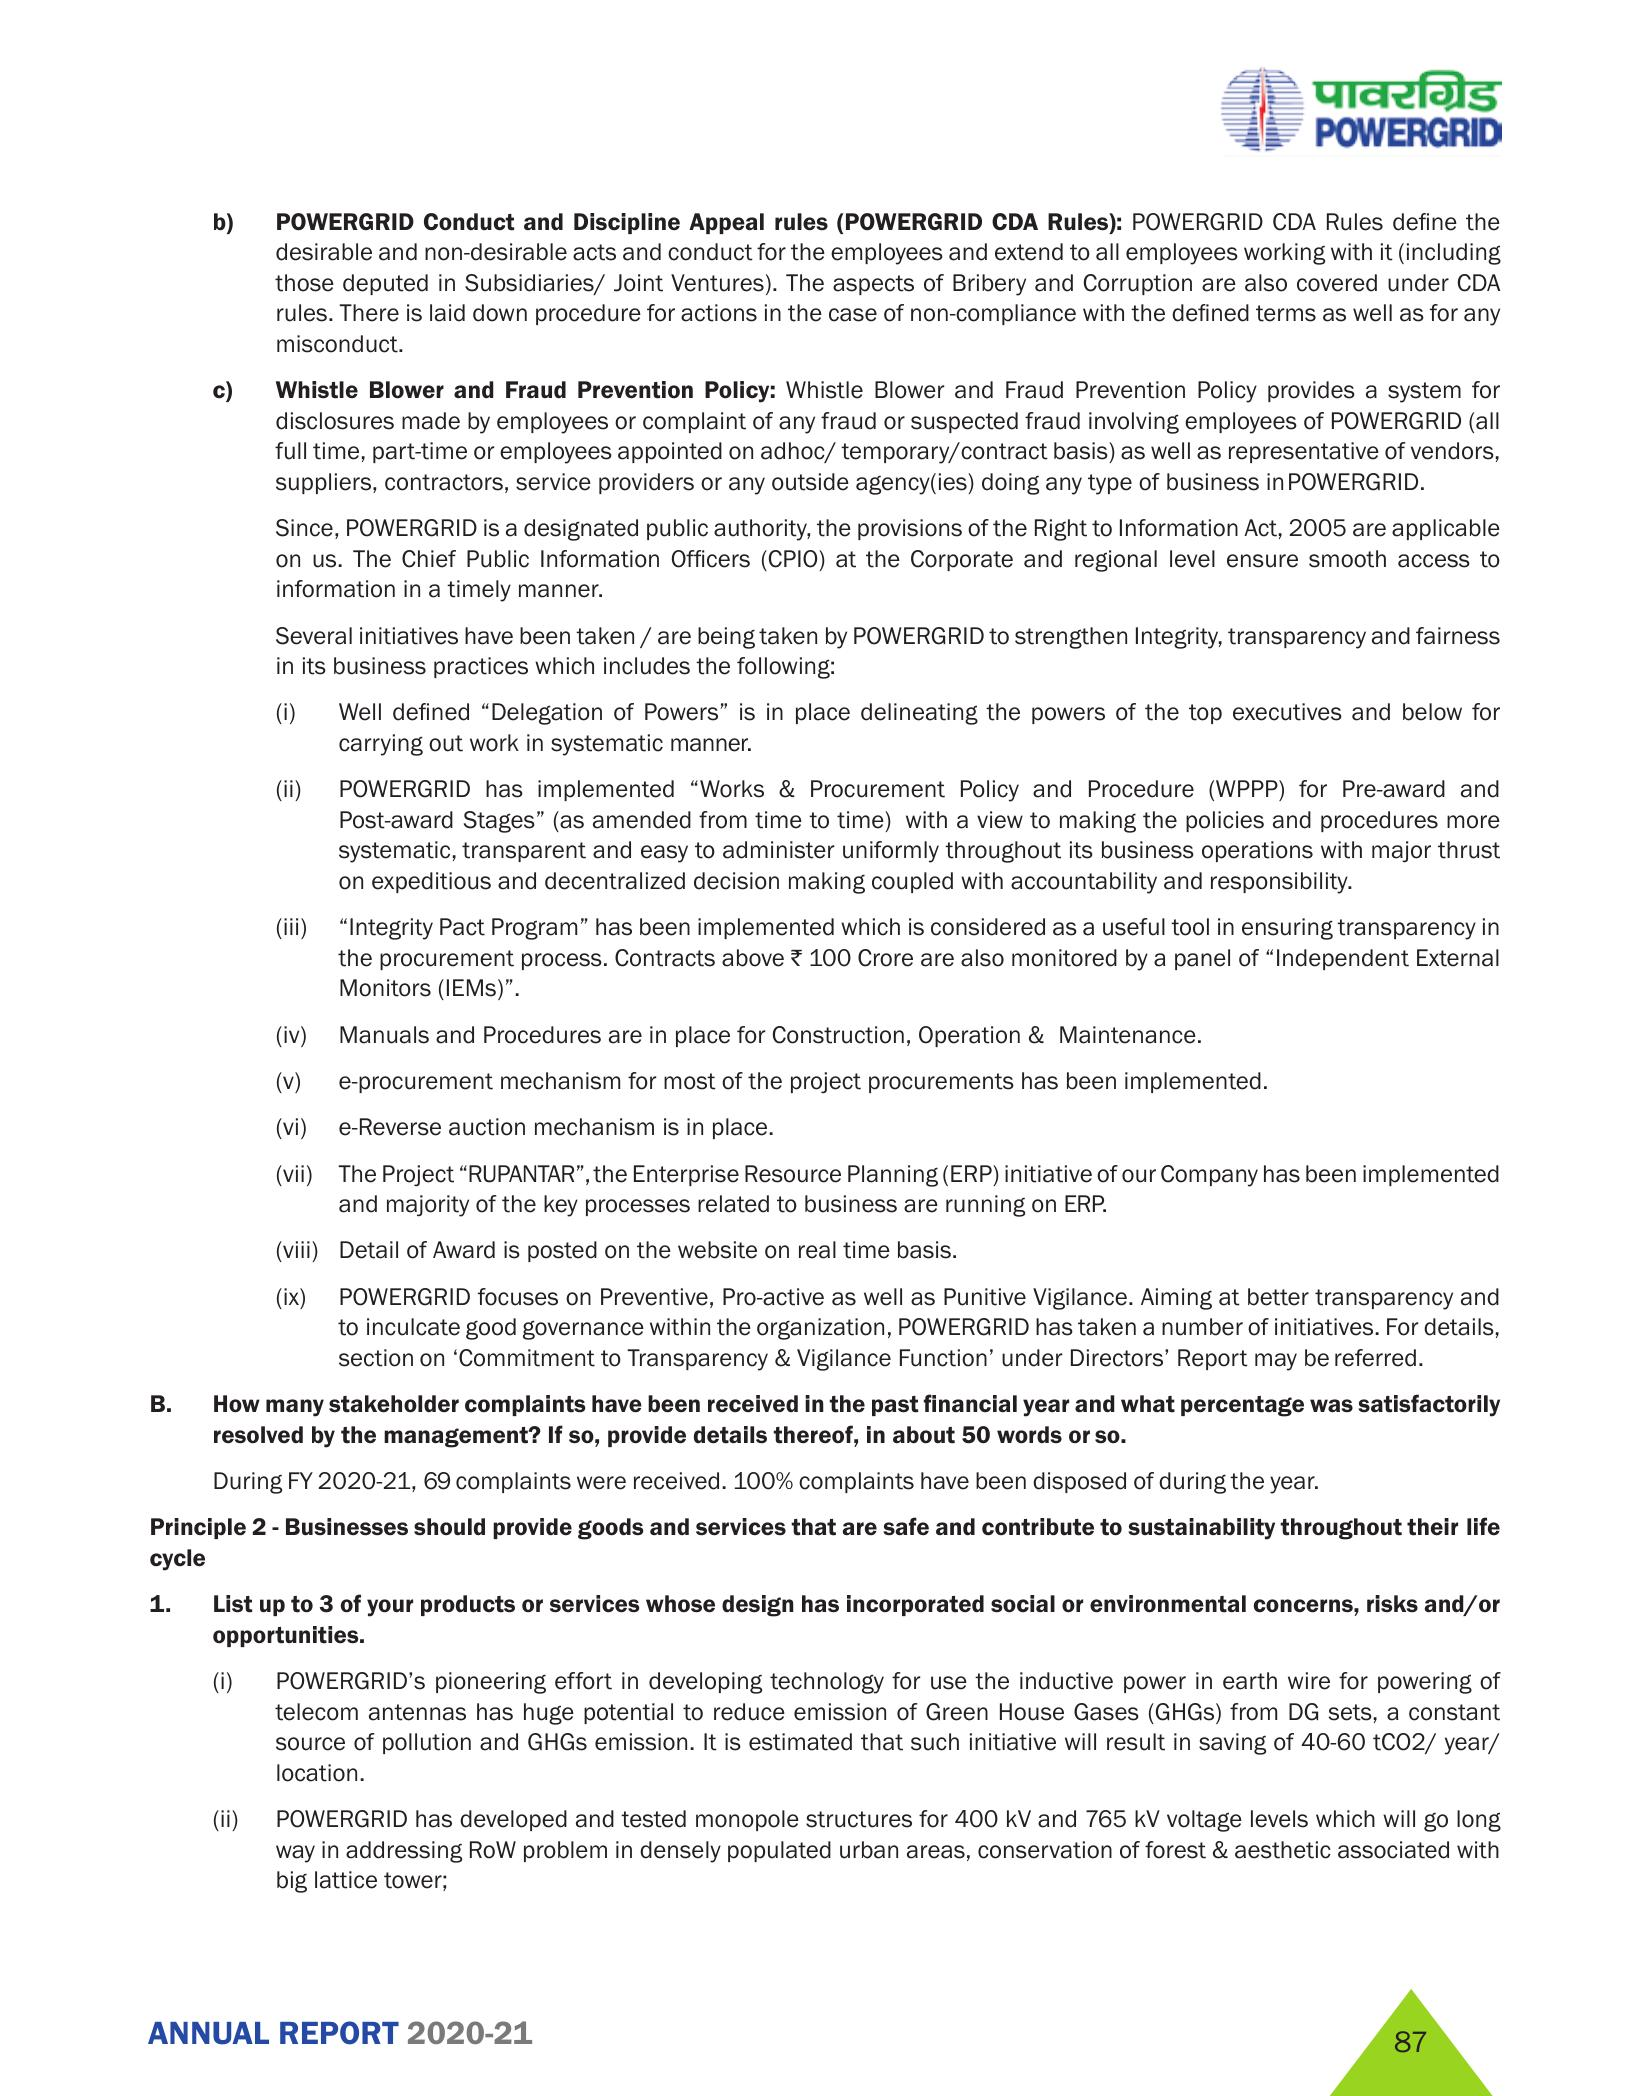Footer: (0, 1965, 1650, 2096)
Header: (0, 0, 1650, 180)
